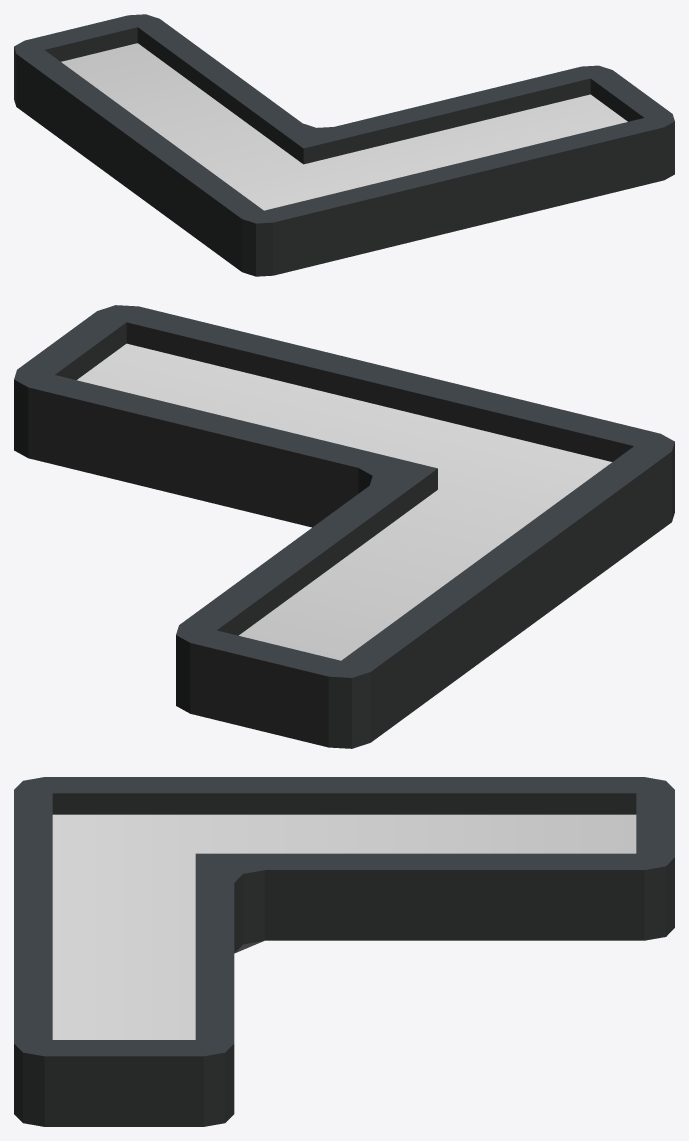
File: LightCorner_03.glb
The picture shows the model from 3 angles, top to bottom: view 1: azimuth 30°, elevation 25°; view 2: azimuth 150°, elevation 25°; view 3: azimuth 270°, elevation 25°; orthographic projection. The views are drawn at different scales.
Visible parts, largest first — view 1: LightCorner_03; view 2: LightCorner_03; view 3: LightCorner_03.
Part boxes in pixels (x1=…): LightCorner_03: x1=14, y1=14, x2=674, y2=276; LightCorner_03: x1=14, y1=305, x2=674, y2=748; LightCorner_03: x1=14, y1=777, x2=674, y2=1126.
Size of what is drawn, in the model's own units: 2 by 0.2357 by 2.
Materials: 1 (1 with a texture image).
